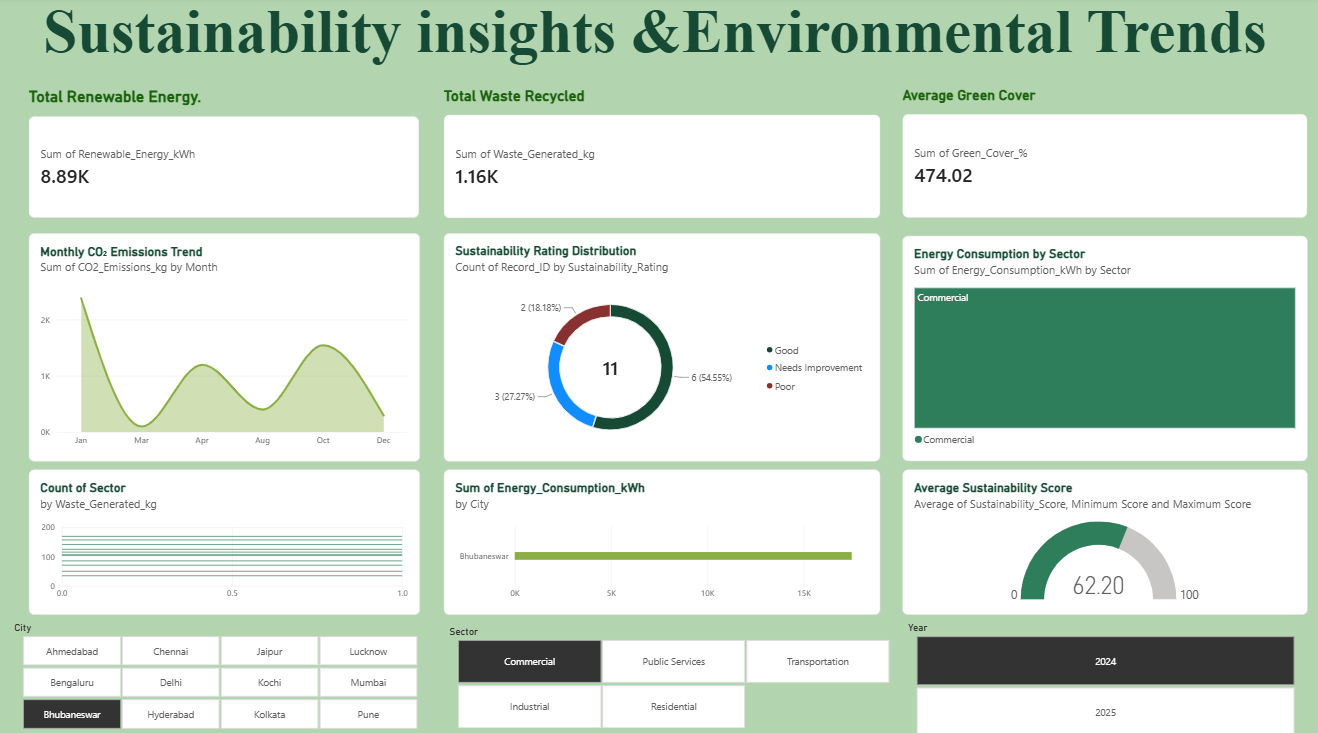

The page's visual inventory and layout, read from the dashboard file:
{"tool":"powerbi","page":{"name":"Page 2","canvas":[1920,1080],"ordinal":1},"visuals":[{"type":"textbox","box":[10.9,0,1896.5,114],"z":0},{"type":"clusteredBarChart","fields":{"Category":["Sustainability_Data.City"],"Y":["Sum(Sustainability_Data.Energy_Consumption_kWh)"]},"box":[642,684,632,210],"z":1000},{"type":"clusteredColumnChart","fields":{"Category":["Sustainability_Data.Sector"],"Y":["Sum(Sustainability_Data.Waste_Generated_kg)","Sum(Sustainability_Data.Waste_Recycled_kg)"]},"box":[42,684,566,210],"z":2000},{"type":"gauge","title":"Average Sustainability Score","fields":{"MaxValue":["Sustainability_Data.Maximum Score"],"MinValue":["Sustainability_Data.Minimum Score"],"Y":["Avg(Sustainability_Data.Sustainability_Score)"]},"box":[1306,684,586,210],"z":3000},{"type":"treemap","title":"Energy Consumption by Sector","fields":{"Group":["Sustainability_Data.Sector"],"Values":["Sum(Sustainability_Data.Energy_Consumption_kWh)"]},"box":[1306,346,586,326],"z":4000},{"type":"areaChart","title":"Monthly CO₂ Emissions Trend","fields":{"Category":["Sustainability_Data.Month"],"Y":["Sum(Sustainability_Data.CO2_Emissions_kg)"]},"box":[42,342,566,330],"z":5000},{"type":"donutChart","title":"Sustainability Rating Distribution","fields":{"Category":["Sustainability_Data.Sustainability_Rating"],"Y":["CountNonNull(Sustainability_Data.Record_ID)"]},"box":[642,342,632,330],"z":6000},{"type":"cardVisual","title":"Total Renewable Energy.","fields":{"Data":["Sum(Sustainability_Data.Renewable_Energy_kWh)"]},"box":[42.5,130,565,190],"z":7001},{"type":"cardVisual","title":"Total Waste Recycled","fields":{"Data":["Sum(Sustainability_Data.Waste_Recycled_kg)"]},"box":[642.5,130,632.5,190],"z":7002},{"type":"cardVisual","title":"Average Green Cover","fields":{"Data":["Avg(Sustainability_Data.Green_Cover_%)"]},"box":[1306,130,586,190],"z":7003},{"type":"slicer","fields":{"Values":["Sustainability_Data.Year"]},"box":[1306,904,586,168],"z":7004},{"type":"slicer","fields":{"Values":["Sustainability_Data.City"]},"box":[12,904,610,156],"z":7006},{"type":"slicer","fields":{"Values":["Sustainability_Data.Sector"]},"box":[642,910,664,150],"z":7007}]}

Visuals, with their boxes in screenshot pixels (x1, y1, x2, y2), scaled from the page's 1920x1080 canvas onto the 1318x733 screenshot:
textbox: 7 0 1309 77
clusteredBarChart - Sustainability_Data.City x Sum(Sustainability_Data.Energy_Consumption_kWh): 441 464 875 607
clusteredColumnChart - Sustainability_Data.Sector x Sum(Sustainability_Data.Waste_Generated_kg): 29 464 417 607
"Average Sustainability Score" gauge: 897 464 1299 607
"Energy Consumption by Sector" treemap: 897 235 1299 456
"Monthly CO₂ Emissions Trend" areaChart: 29 232 417 456
"Sustainability Rating Distribution" donutChart: 441 232 875 456
"Total Renewable Energy." cardVisual: 29 88 417 217
"Total Waste Recycled" cardVisual: 441 88 875 217
"Average Green Cover" cardVisual: 897 88 1299 217
slicer - Sustainability_Data.Year: 897 614 1299 728
slicer - Sustainability_Data.City: 8 614 427 719
slicer - Sustainability_Data.Sector: 441 618 897 719
